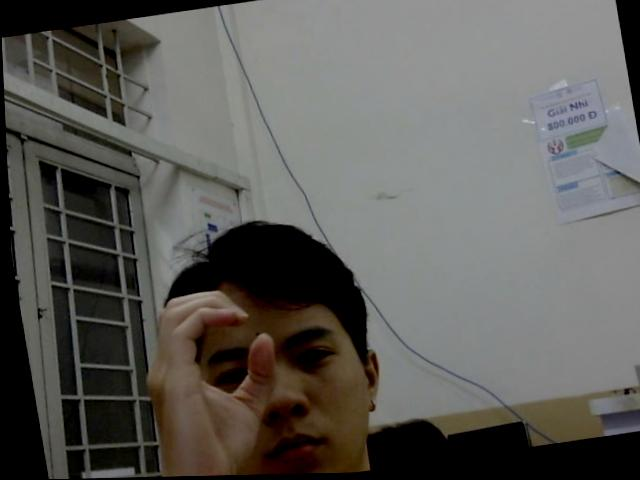C: (125, 282, 292, 478)
